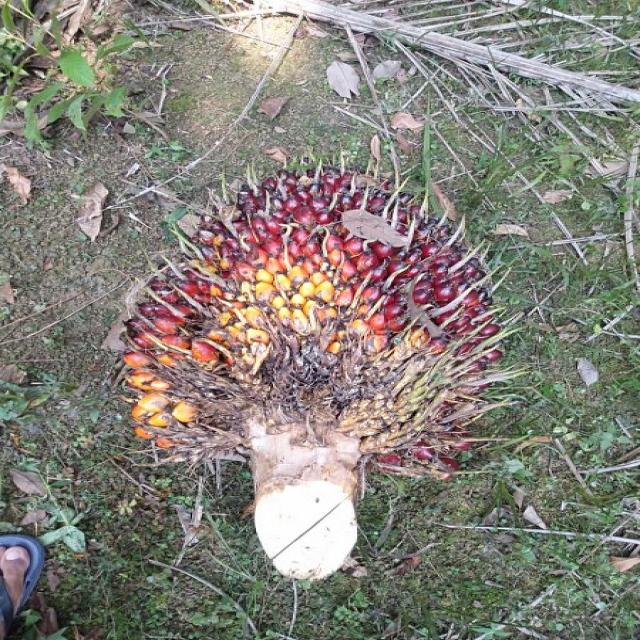fraksi 1: (109, 155, 506, 465)
